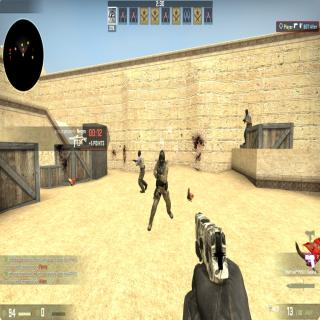CT-Body: (151, 150, 170, 229)
CT-Head: (158, 149, 166, 165)
T-Body: (134, 150, 146, 193), (242, 108, 252, 145)
T-Head: (244, 108, 249, 117), (138, 150, 142, 158)
